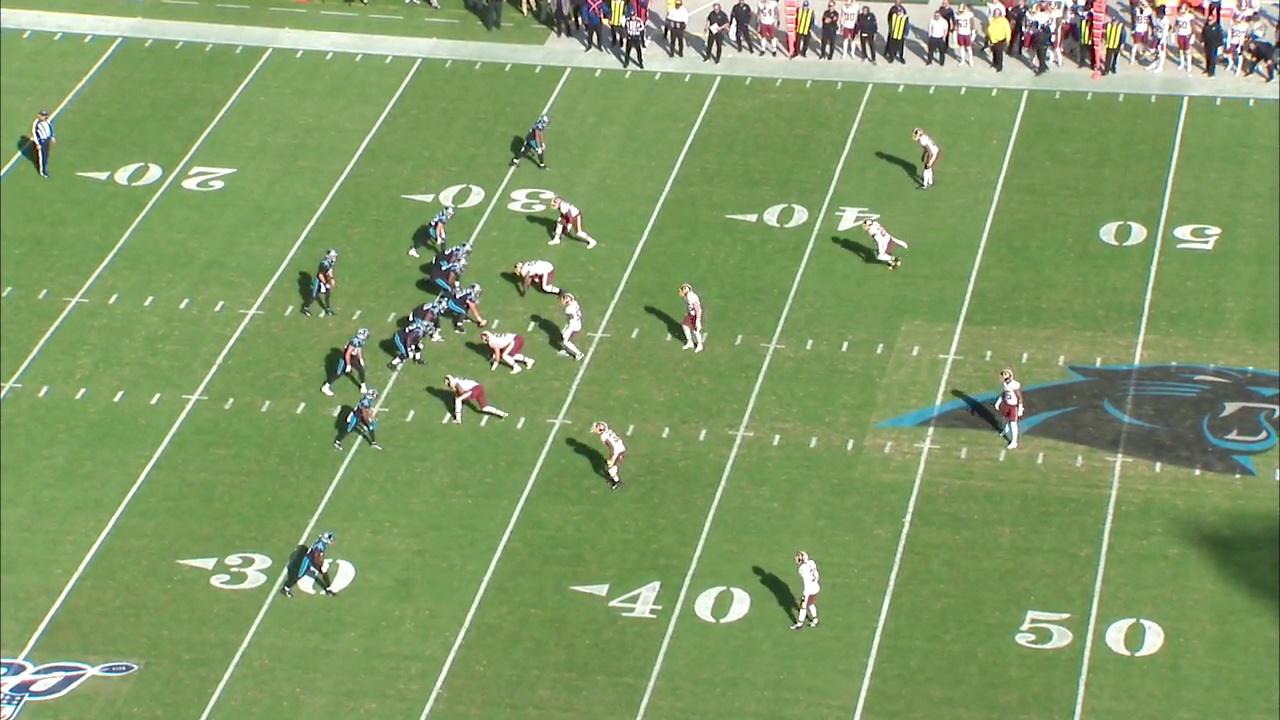player: (319, 325, 374, 400), (279, 530, 336, 601), (442, 373, 512, 426), (331, 389, 383, 453), (300, 244, 342, 320), (590, 419, 631, 494), (787, 549, 824, 632), (861, 217, 912, 275), (546, 196, 600, 250), (407, 205, 457, 262), (994, 367, 1026, 452), (479, 329, 538, 375), (387, 318, 433, 374), (445, 281, 489, 336), (510, 114, 551, 172), (675, 281, 707, 355), (557, 292, 588, 365), (405, 296, 449, 345), (911, 125, 943, 192), (512, 260, 565, 298), (428, 256, 470, 300), (429, 240, 478, 277)
ref: (26, 107, 65, 180), (619, 11, 655, 72)
